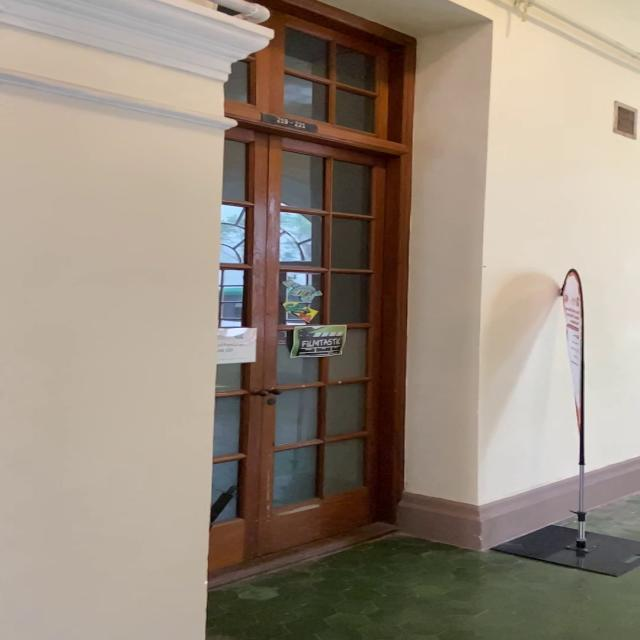room221: (257, 112, 319, 134)
